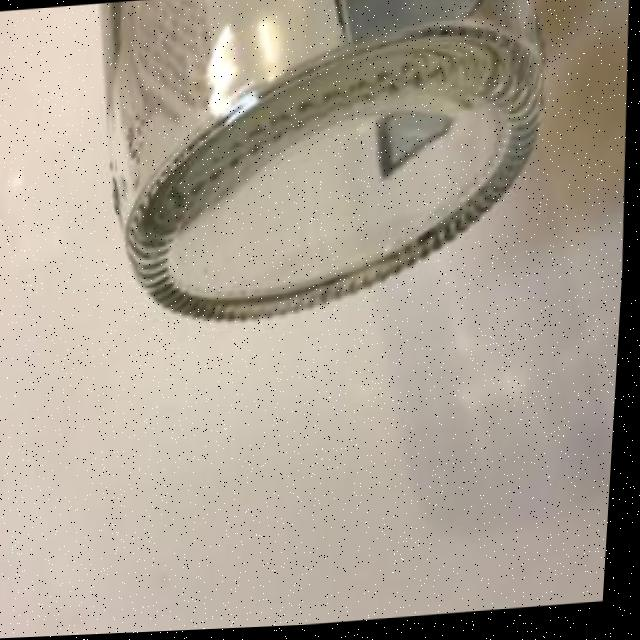glass: (79, 0, 567, 348)
